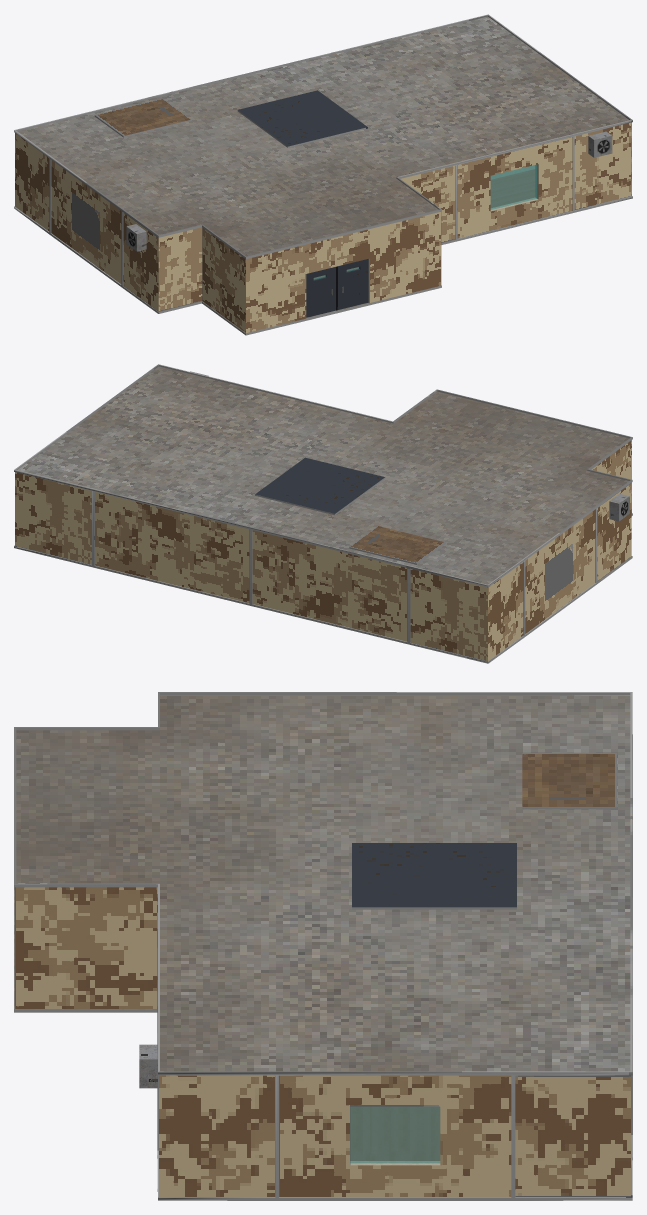
The model's file is main.glb.
3 views of the same model, one above another, from view 1: azimuth 30°, elevation 25°; view 2: azimuth 150°, elevation 25°; view 3: azimuth 270°, elevation 25° (orthographic). The views are drawn at different scales.
Parts seen in each view (by area): view 1: Walls, Windows, Door R, Door L; view 2: Walls; view 3: Walls, Windows.
Boxes of the visible parts, box(x1,y1,x2,y2) form: Walls: box(14, 14, 632, 335); Windows: box(490, 164, 537, 209); Door R: box(337, 259, 368, 310); Door L: box(306, 266, 336, 317); Walls: box(14, 364, 632, 663); Walls: box(14, 692, 632, 1200); Windows: box(350, 1106, 440, 1163).
Bounding box in the file's own units: 4.94 × 0.7623 × 3.33.
Materials: 5 (4 with a texture image).
